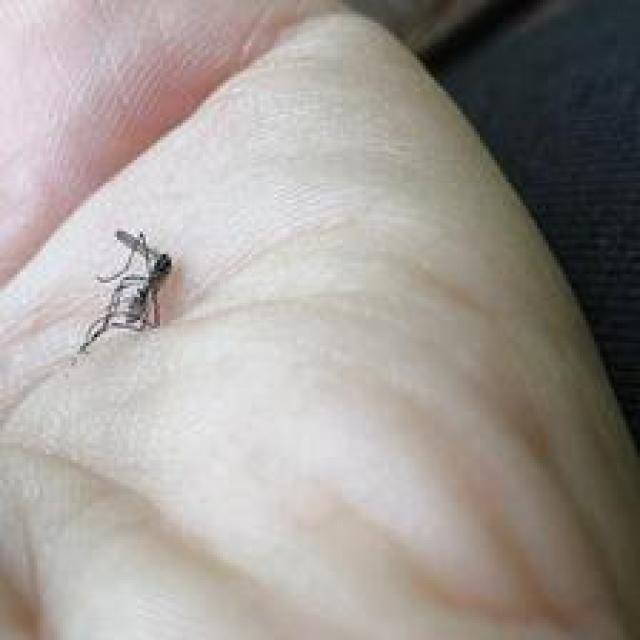Aedes albopictus: (74, 227, 174, 356)
